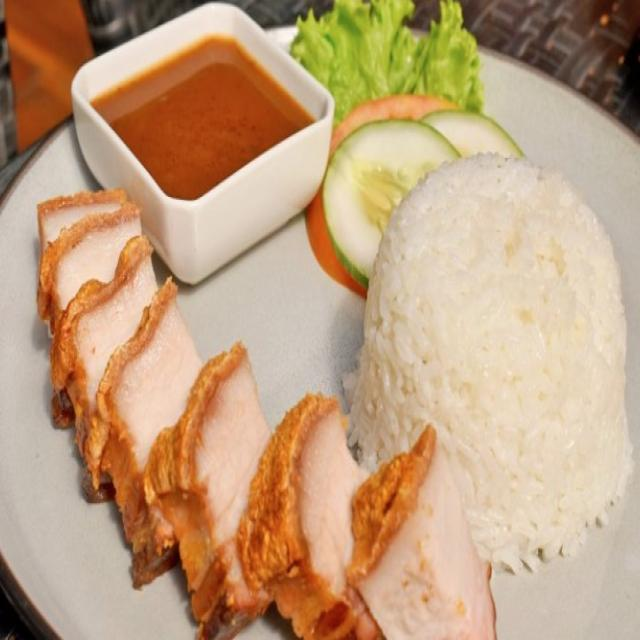Carbohydrate: (348, 151, 635, 568)
Kaow-Crispymoo: (18, 1, 633, 640)
Protein: (31, 186, 496, 640)
Vegetable: (296, 0, 518, 284)
